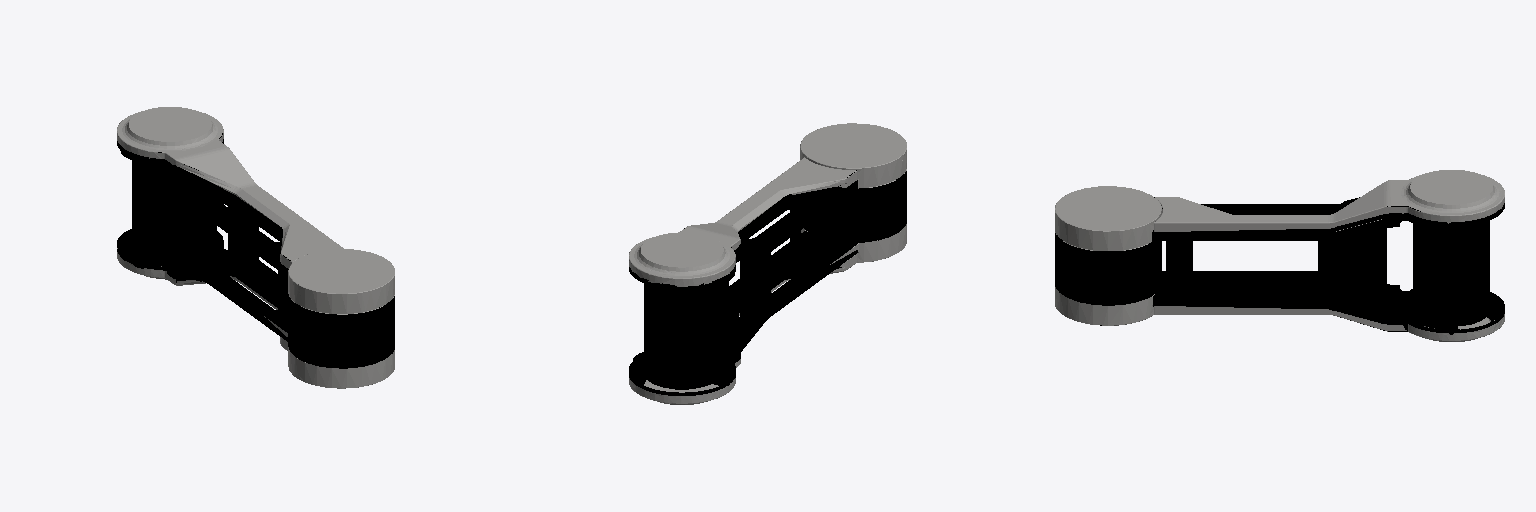
The picture shows the model from 3 angles: view 1: azimuth 30°, elevation 25°; view 2: azimuth 150°, elevation 25°; view 3: azimuth 270°, elevation 25°; orthographic projection.
Parts seen in each view (by area): view 1: torso_link1; view 2: torso_link1; view 3: torso_link1.
Part boxes in pixels (x1,y1,x2,y2): torso_link1: (117,107,394,388); torso_link1: (629,123,906,404); torso_link1: (1055,170,1504,341).
Bounding box in the file's own units: 0.125 × 0.177 × 0.5249.
Materials: 1 (1 with a texture image).